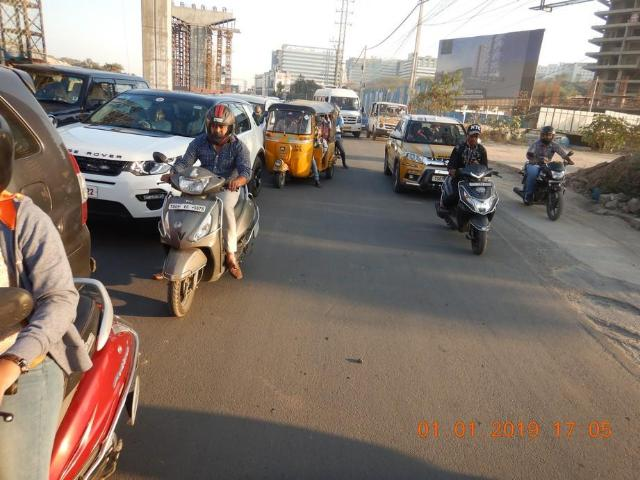helm: (203, 104, 237, 147), (541, 127, 557, 146)
motor: (151, 150, 264, 320), (436, 161, 503, 258), (513, 151, 577, 224)
non-helm: (468, 125, 484, 148)
